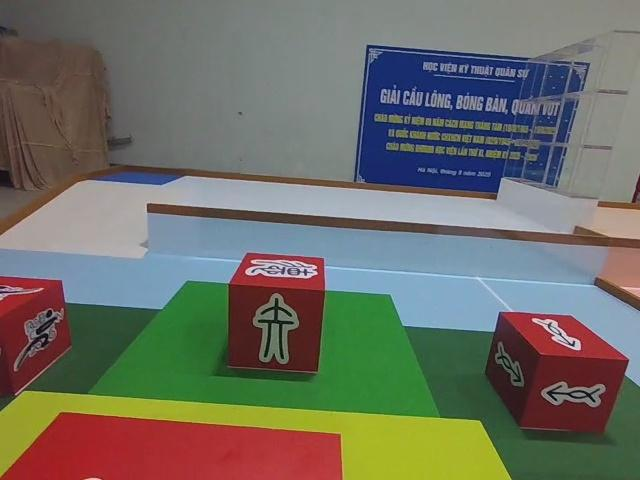R1: (0, 276, 70, 397)
R2 Fake: (228, 253, 324, 378)
R2 Real: (484, 311, 630, 439)
